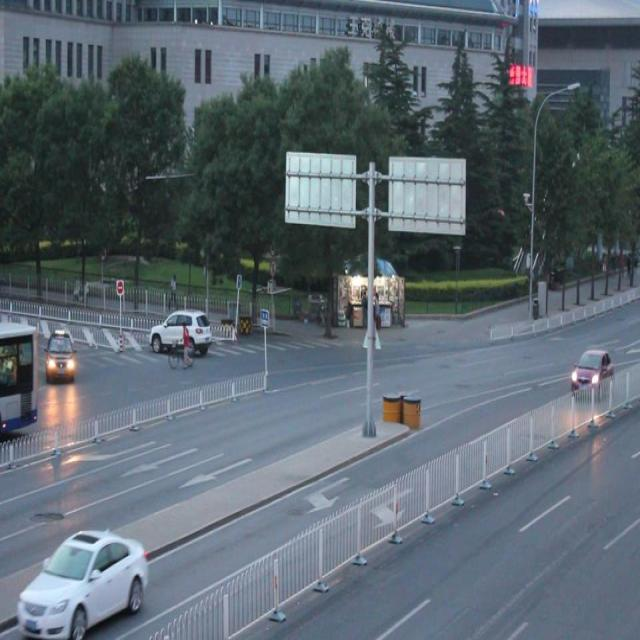car: (19, 527, 148, 640), (152, 306, 210, 358), (569, 347, 613, 400), (46, 326, 76, 380)
van: (1, 320, 37, 428)
